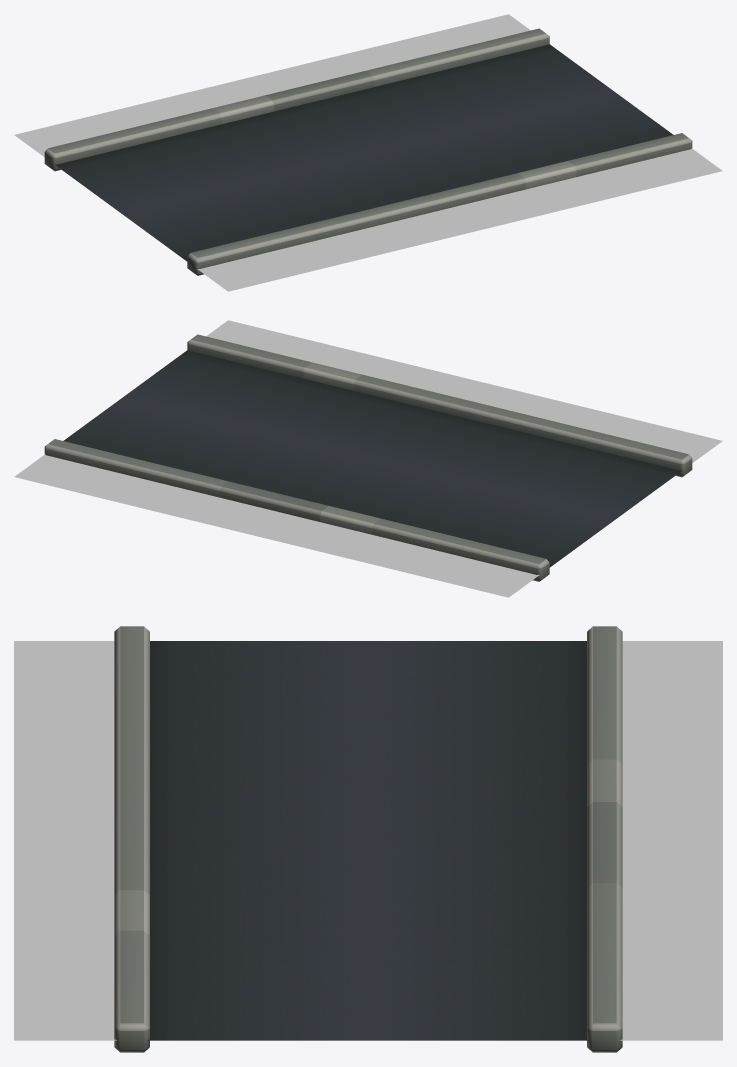
The model's file is lane_section_x8.fbx.
3 renders of one model, top to bottom at view 1: azimuth 30°, elevation 25°; view 2: azimuth 150°, elevation 25°; view 3: azimuth 270°, elevation 25°, orthographic. The views are drawn at different scales.
Parts seen in each view (by area): view 1: lane_section_x8, lane_section_x8_sidewalk; view 2: lane_section_x8, lane_section_x8_sidewalk; view 3: lane_section_x8, lane_section_x8_sidewalk.
Part boxes in pixels (box(x1,y1,x2,y2)): lane_section_x8: box(44, 28, 692, 275); lane_section_x8_sidewalk: box(14, 14, 722, 291); lane_section_x8: box(44, 334, 692, 581); lane_section_x8_sidewalk: box(14, 320, 722, 597); lane_section_x8: box(114, 626, 622, 1052); lane_section_x8_sidewalk: box(14, 641, 722, 1040).
Size of the model in its own units: 1610 by 55 by 1200.
